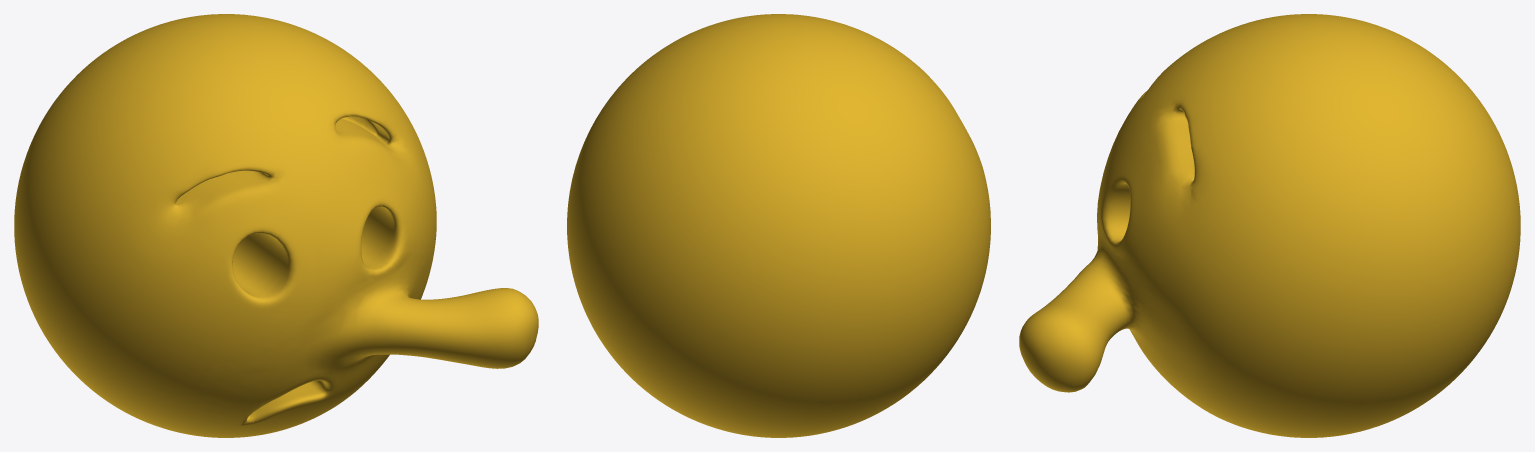
Rendered from nose FBX.glb.
The picture shows the model from 3 angles, left to right: view 1: azimuth 30°, elevation 25°; view 2: azimuth 150°, elevation 25°; view 3: azimuth 270°, elevation 25°; orthographic projection.
Visible parts, largest first — view 1: nose001_; view 2: nose001_; view 3: nose001_.
Part boxes in pixels (x1,y1,x2,y2): nose001_: [14, 14, 538, 437]; nose001_: [567, 14, 990, 437]; nose001_: [1019, 14, 1520, 437].
Bounding box in the file's own units: 0.5597 × 0.5569 × 0.6586.
